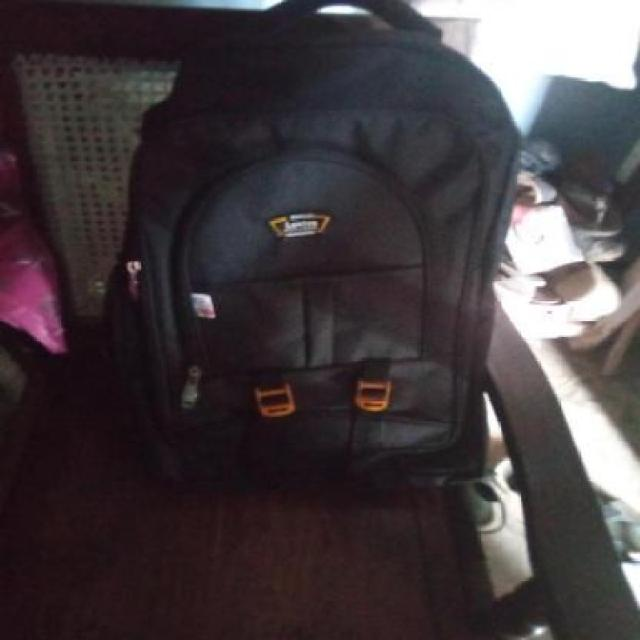backpack: (98, 0, 529, 495)
